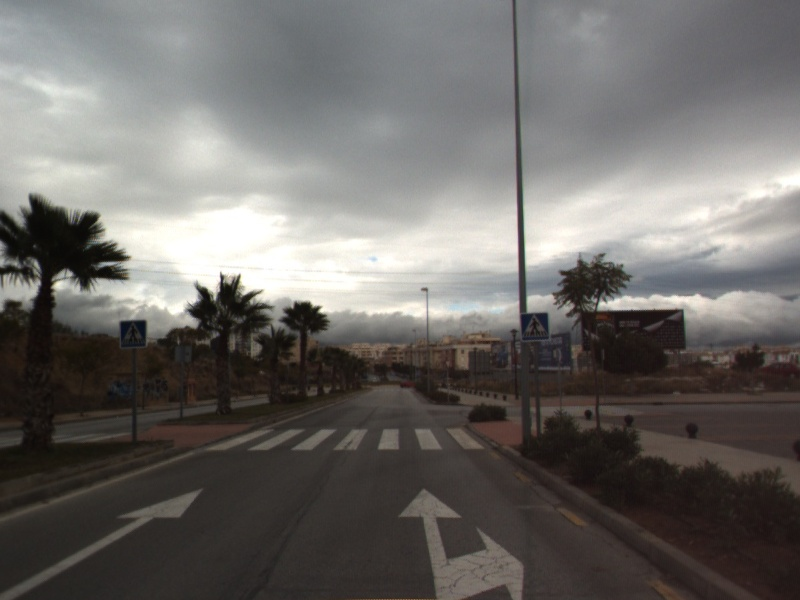STRAIGHT: (1, 486, 206, 600)
STRAIGHT_RIGHT: (396, 486, 526, 600)
